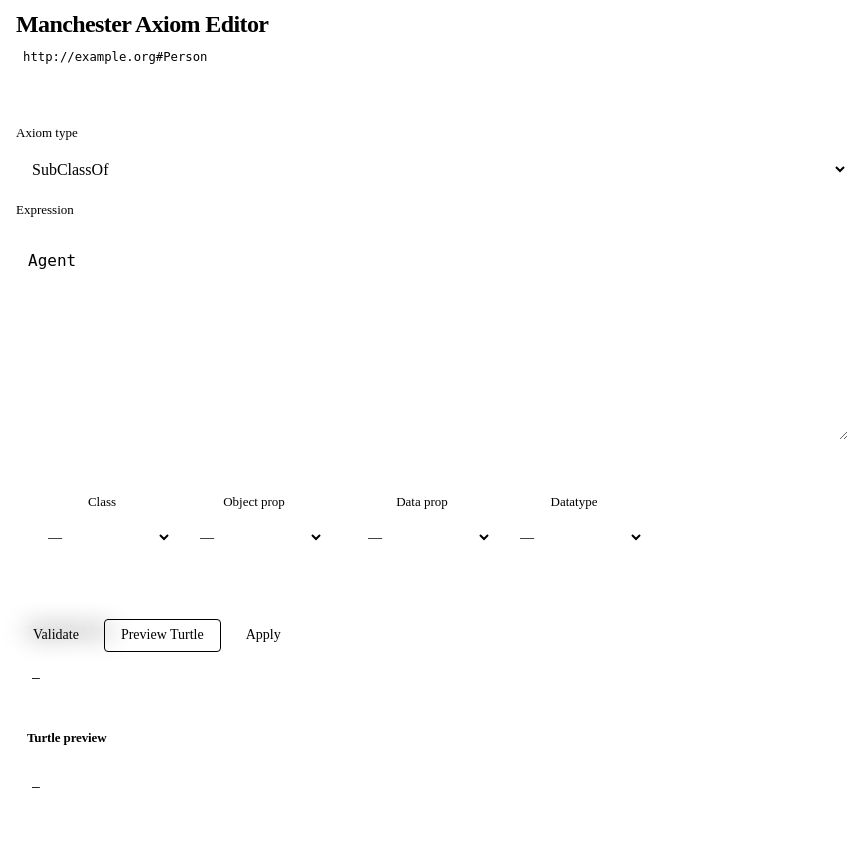
ManchesterEditorPanel › renders expression tree JSON when validation succeeds
The image size is (864, 865).
expect the text "http://example.org#Person" is shown: met, box [16,48,214,66]
Click the button "Validate" at (56, 636), box [16,619,96,652]
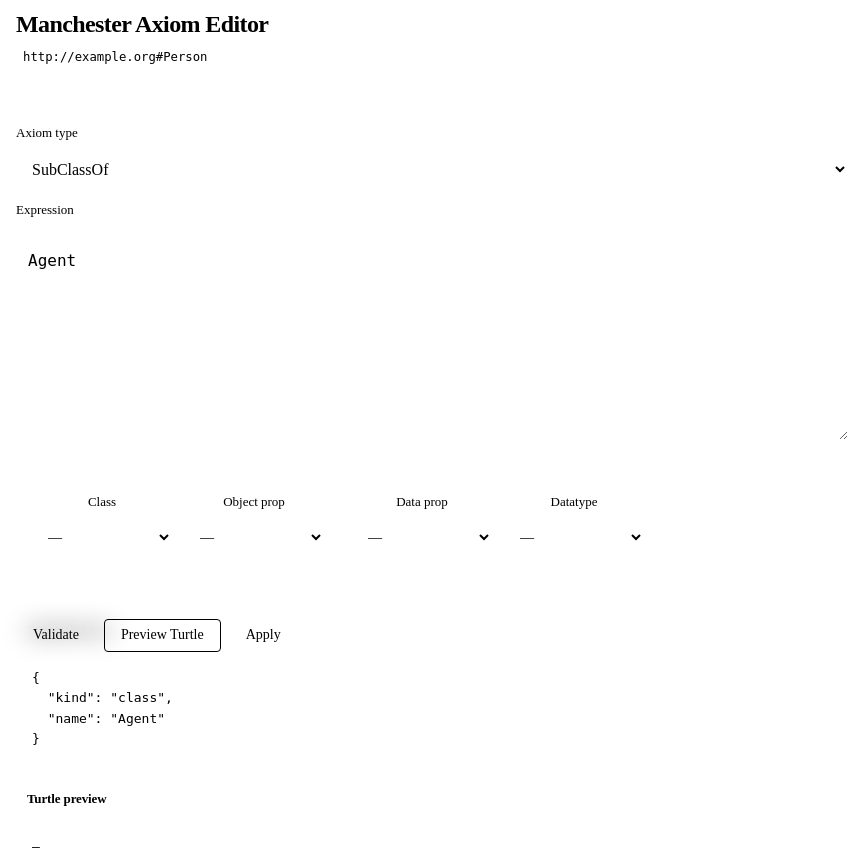
expect the text "{ \"kind\": \"class\", \"name\": \"Agent\" }" is shown: met, box [32,670,173,746]
